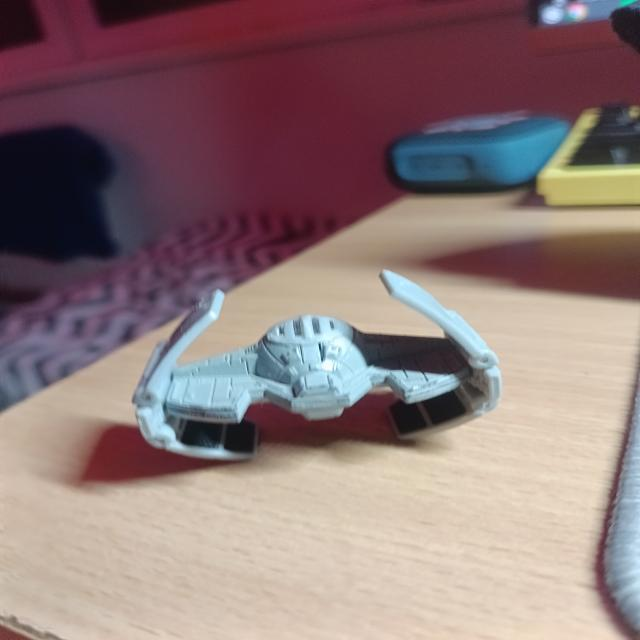tie fighter: (133, 271, 501, 460)
